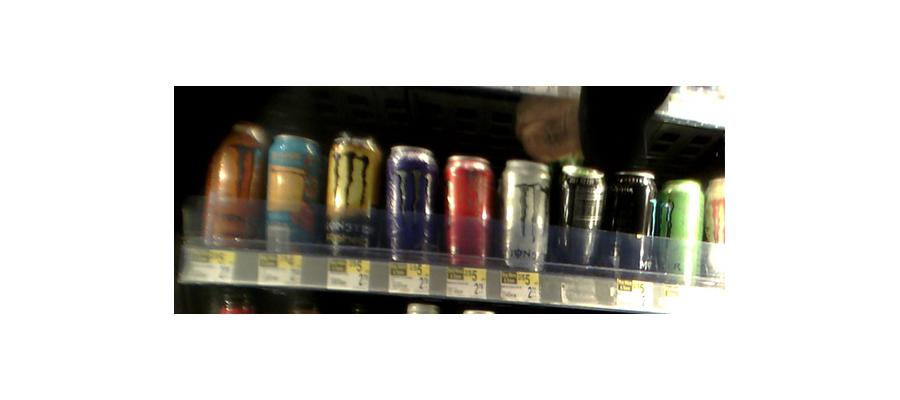bottle: (203, 114, 263, 254), (325, 134, 380, 262), (383, 144, 441, 263), (553, 161, 609, 277), (266, 135, 319, 257), (498, 159, 551, 273), (443, 154, 495, 266), (611, 166, 657, 280), (659, 177, 705, 283)
